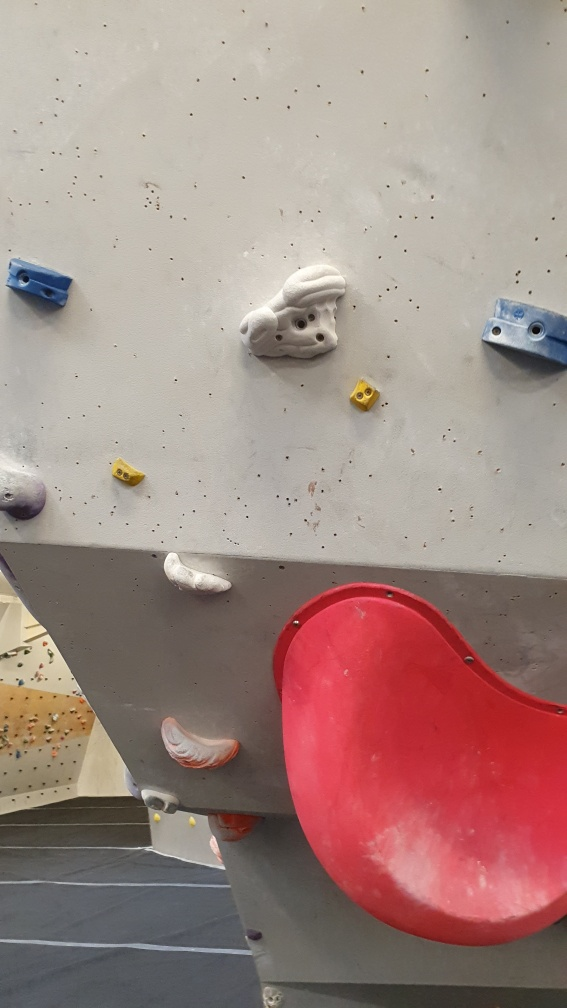Crimp: (108, 455, 146, 488)
Jug: (231, 261, 349, 364), (159, 715, 246, 777), (160, 548, 236, 599)
Pinch: (481, 296, 567, 371), (1, 252, 80, 315), (345, 375, 389, 417)
